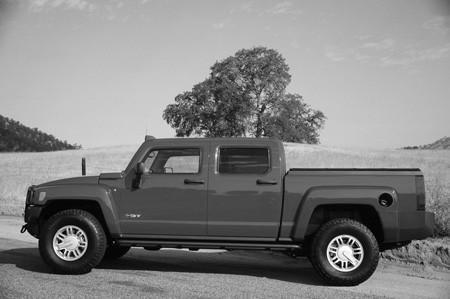car: (19, 135, 439, 288)
